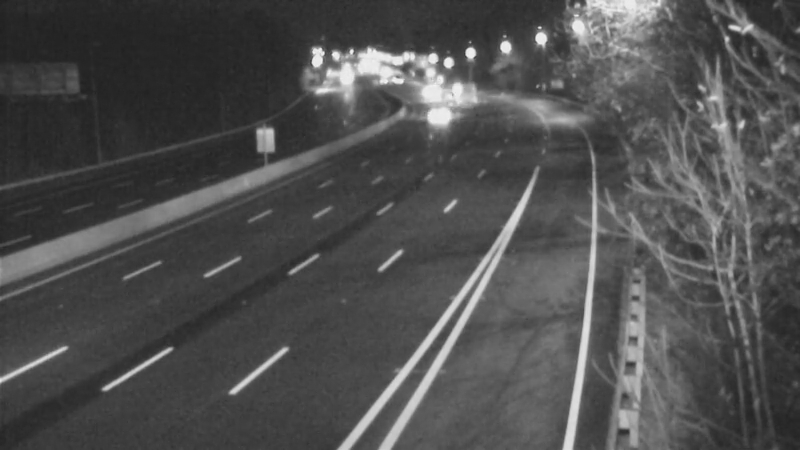vehicle: (401, 63, 451, 113), (438, 64, 488, 114), (408, 93, 458, 143)
